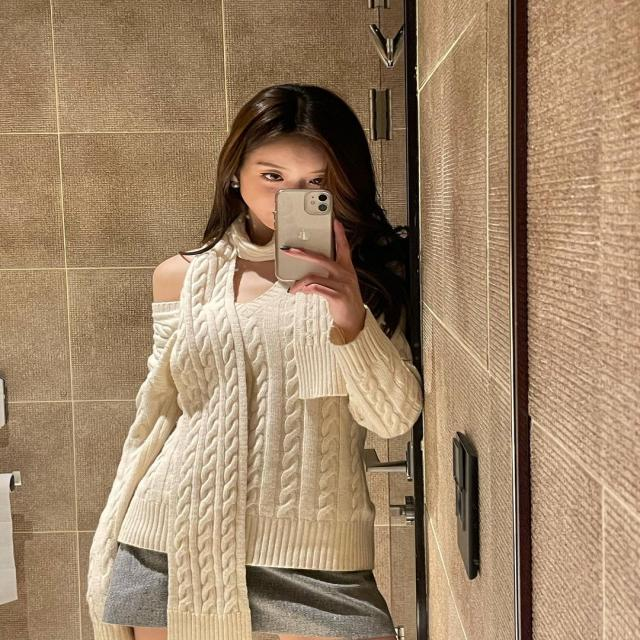phone: (274, 190, 334, 282)
